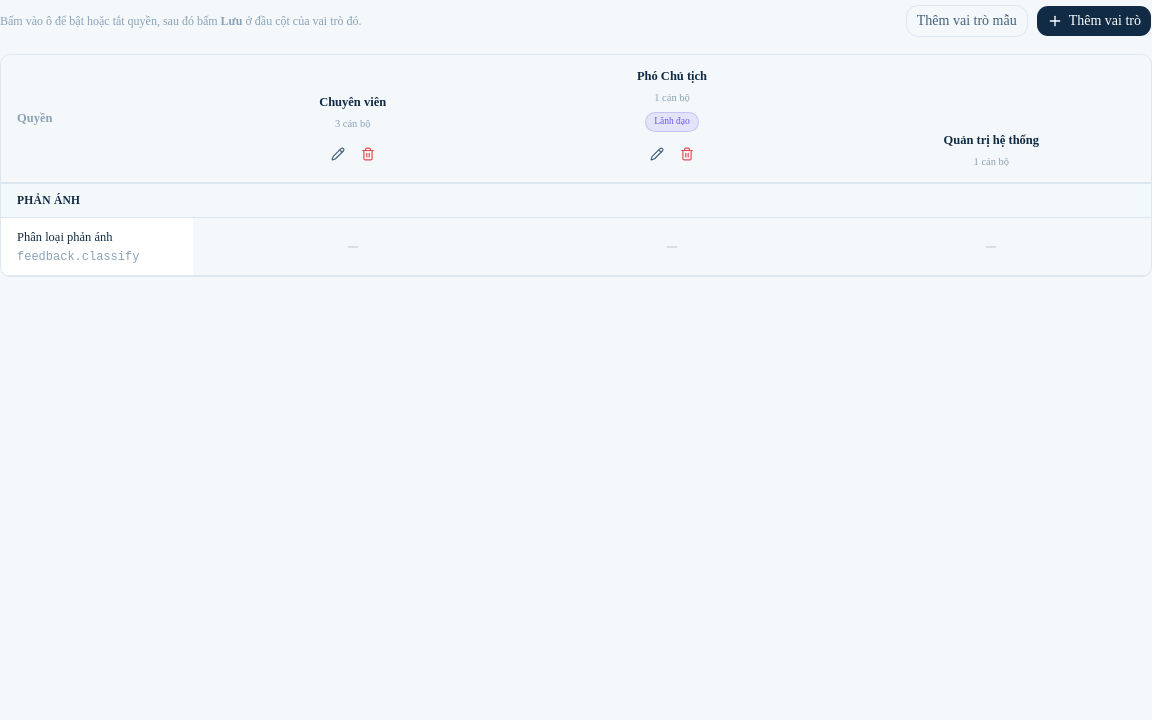
Thêm vai trò mẫu › 403 permission_escalation: the server's sentence stays in the dialog, no reload
Click the button "Thêm vai trò mẫu".
click(967, 21)  # box left=906, top=5, right=1028, bottom=37
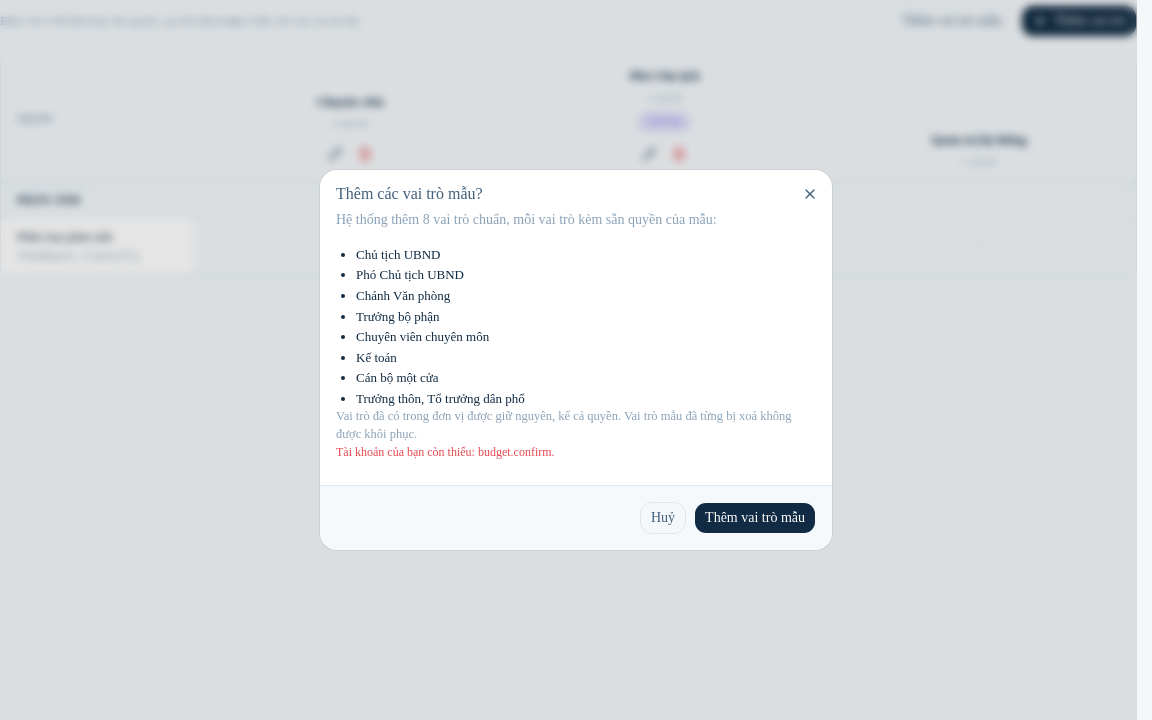
Check: the dialog is shown, box left=320, top=170, right=832, bottom=550
Check: the message "Tài khoản của bạn còn thiếu: budget.confirm." is shown, box left=336, top=445, right=555, bottom=459
